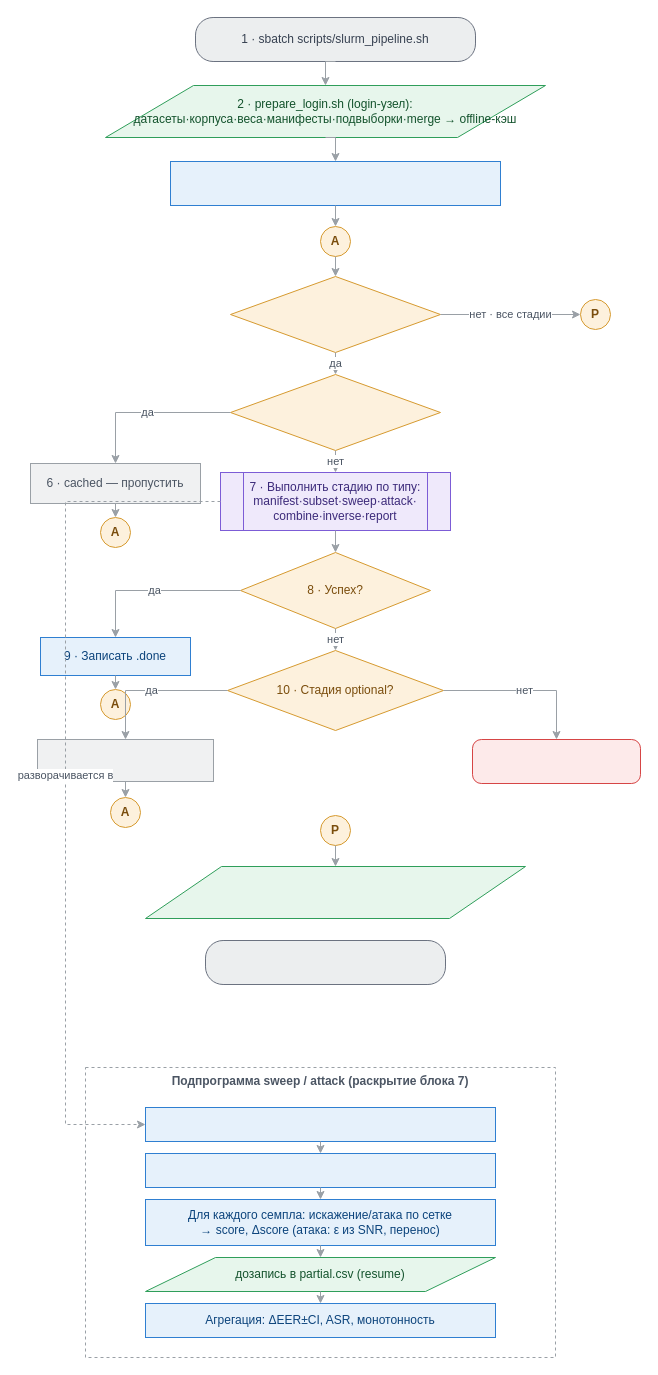
This 658x1375 diagram has some shape labels left out. Here are the shapes that lost their labels. From the top down, the centre of each, then its label:
At pixel 335 183: "3 · adfd pipeline читает configs/pipeline.yaml".
At pixel 335 314: "4 · Есть стадия?".
At pixel 335 412: "5 · Маркер .done есть?".
At pixel 125 760: "11 · Пометить skipped + warn".
At pixel 556 761: "12 · STOP — fail-fast".
At pixel 335 892: "13 · runs/pipeline/report/ CSV сравнения + графики + report.md".
At pixel 325 962: "14 · Готово: pipeline summary".
At pixel 320 1124: "Загрузить детектор; fit если обучаемый".
At pixel 320 1170: "Clean-скоринг → порог t*".
